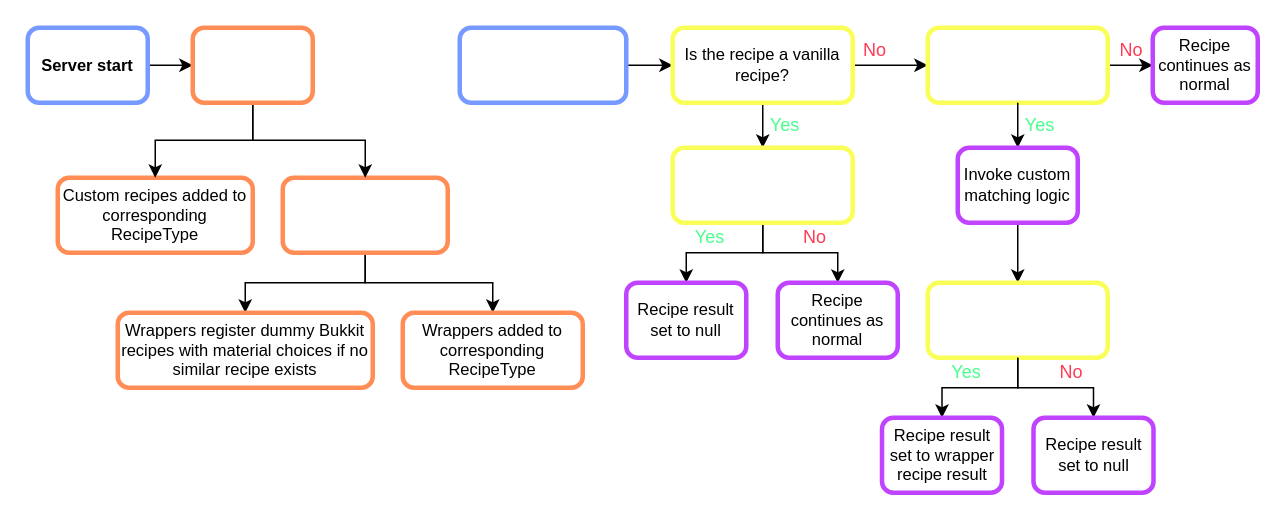
Image size: 1286x521. Some labels were removed from this diagram. The shapes that lost their labels are listed below. From the top down, each one's box as (x1, y1, x2, y2) in pixels, then its label:
(190, 25, 314, 104): Recipes loaded from files
(457, 25, 628, 104): Any vanilla recipe crafted
(925, 25, 1109, 104): Is the recipe a dummy recipe?
(670, 145, 854, 224): Are there any Rebar items in the recipe?
(280, 175, 449, 254): Vanilla recipes loaded into wrappers
(925, 280, 1109, 359): Do any recipes of the corresponding wrapper type match?
